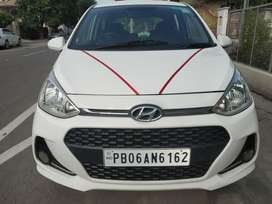PB06AN6162: (103, 147, 190, 166)
